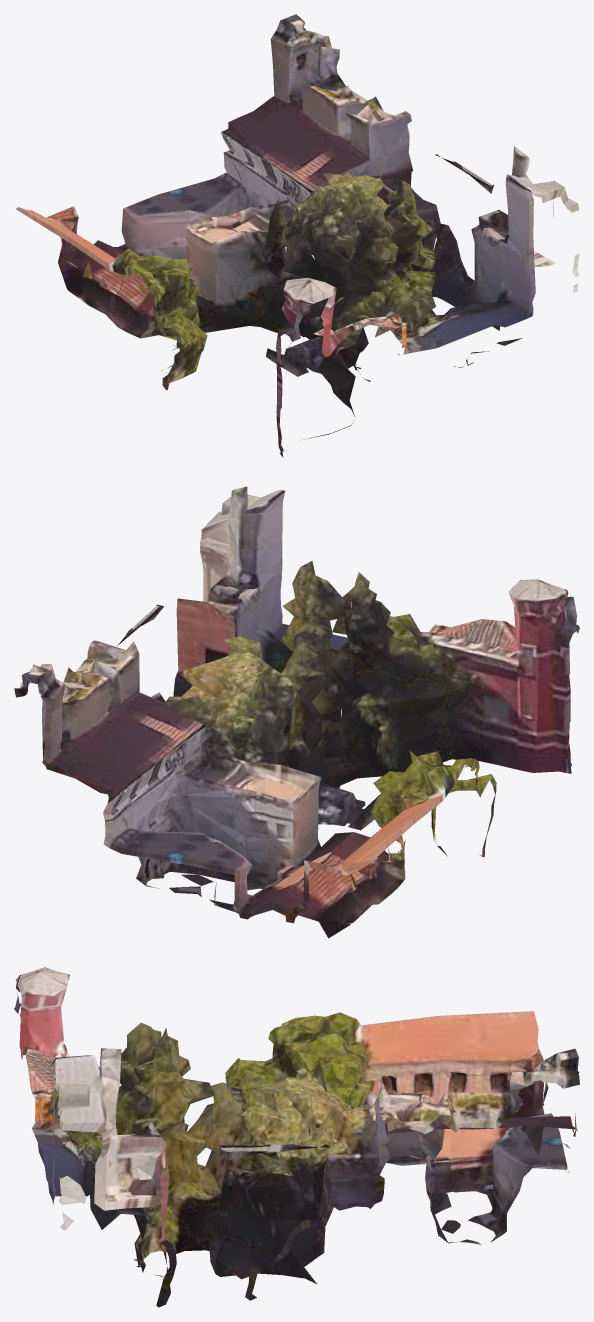
The picture shows the model from 3 angles, top to bottom: view 1: azimuth 30°, elevation 25°; view 2: azimuth 150°, elevation 25°; view 3: azimuth 270°, elevation 25°; orthographic projection. The views are drawn at different scales.
Visible parts, largest first — view 1: Mesh_0; view 2: Mesh_0; view 3: Mesh_0.
Part boxes in pixels (<box>): Mesh_0: <box>16,14,579,457</box>; Mesh_0: <box>14,486,579,938</box>; Mesh_0: <box>14,967,579,1307</box>.
Bounding box in the file's own units: 33.59 × 19.75 × 41.4.
Materials: 2 (2 with a texture image).
